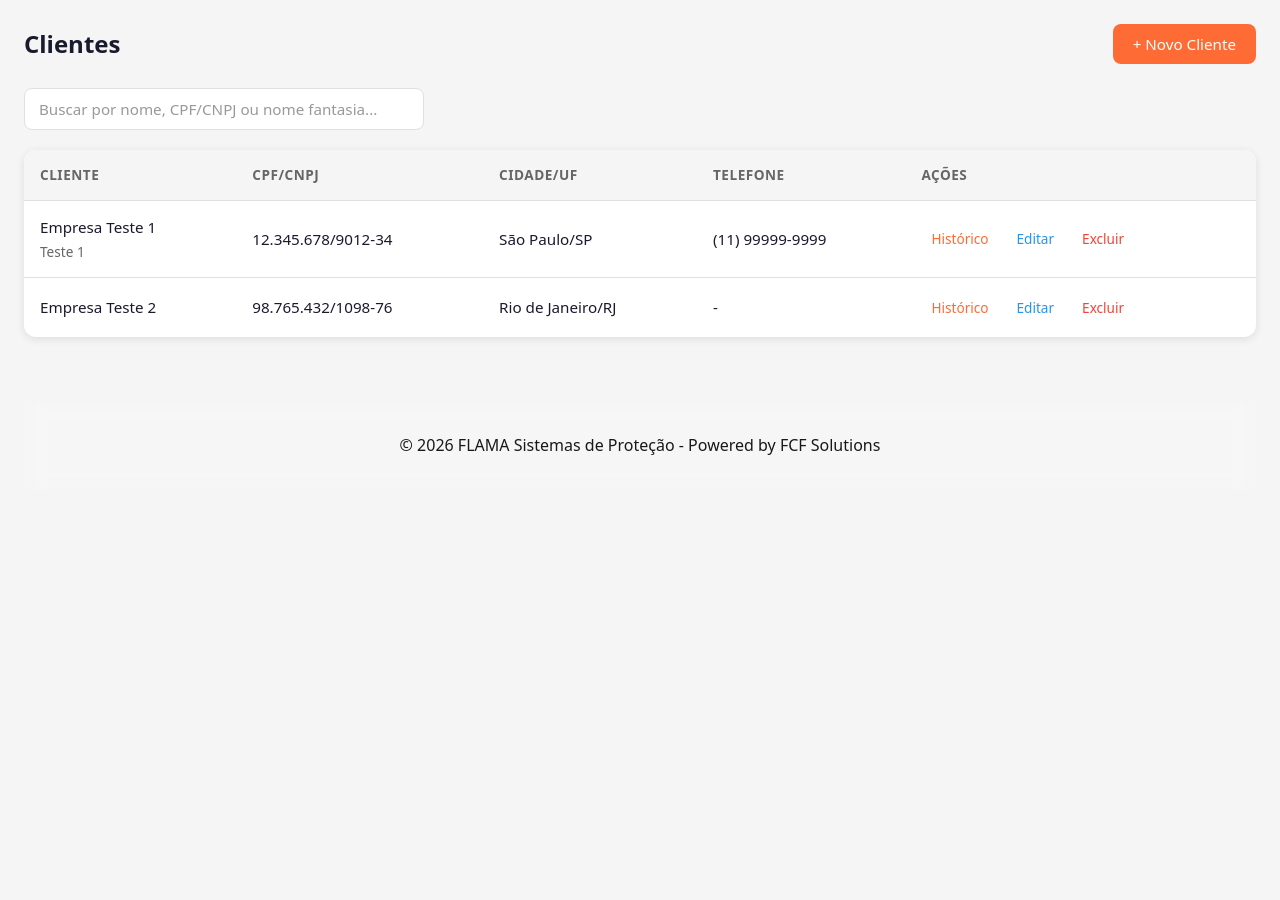
Scenario: Clientes › deve abrir modal de confirmação ao clicar em excluir
The image size is (1280, 900).
Click the button "Excluir" in the row of "Empresa Teste 1" at (1103, 239), box [1072, 223, 1134, 254]
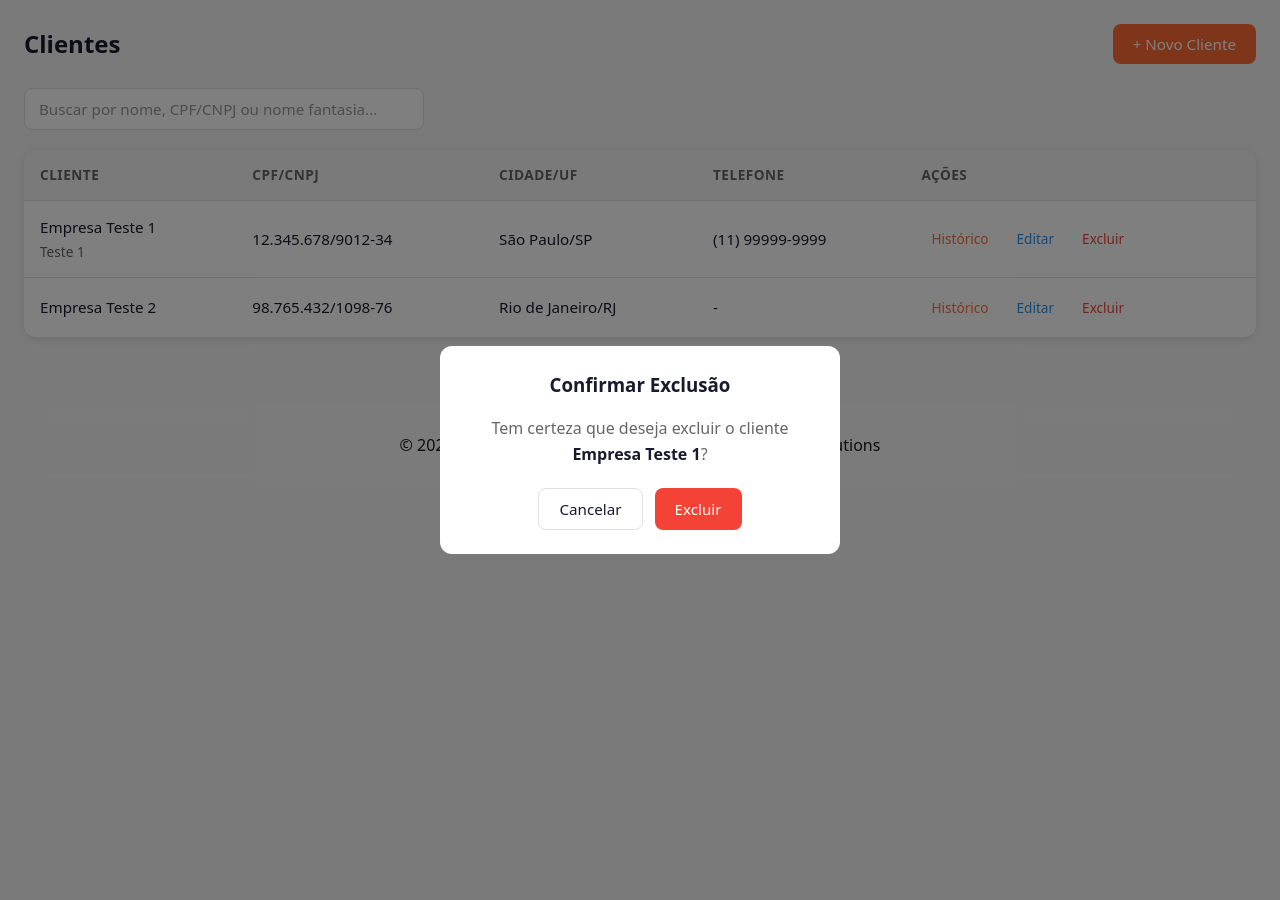
expect the heading "Confirmar Exclusão" is shown: met, box [550, 372, 730, 397]
expect the text "Tem certeza que deseja excluir o cliente Empresa Teste 1?" is shown: met, box [491, 417, 789, 465]
